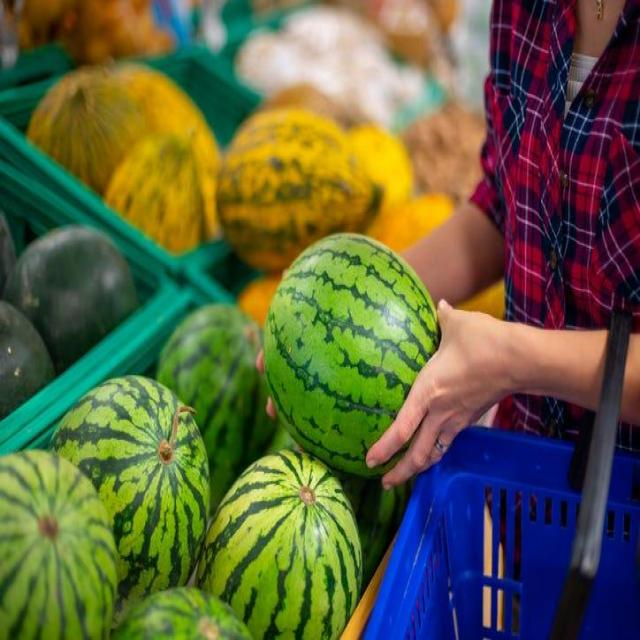watermelon: (250, 232, 450, 482), (48, 377, 214, 638), (186, 445, 370, 640), (0, 444, 118, 640), (158, 300, 274, 488), (105, 581, 249, 640)
